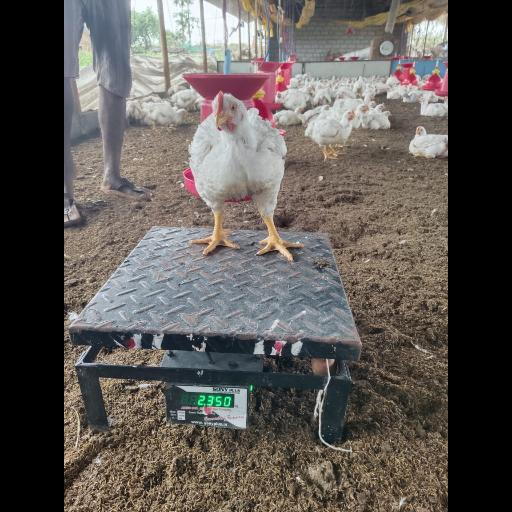chick: (186, 92, 304, 263)
